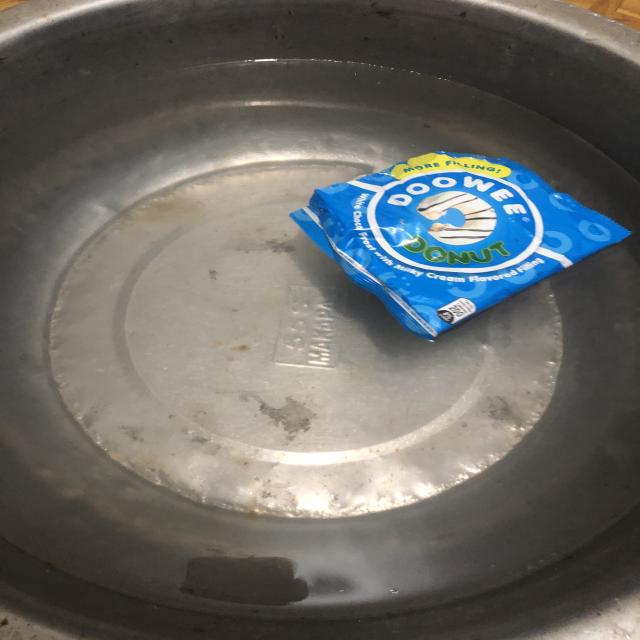Plastic Wrapper: (260, 119, 640, 359)
